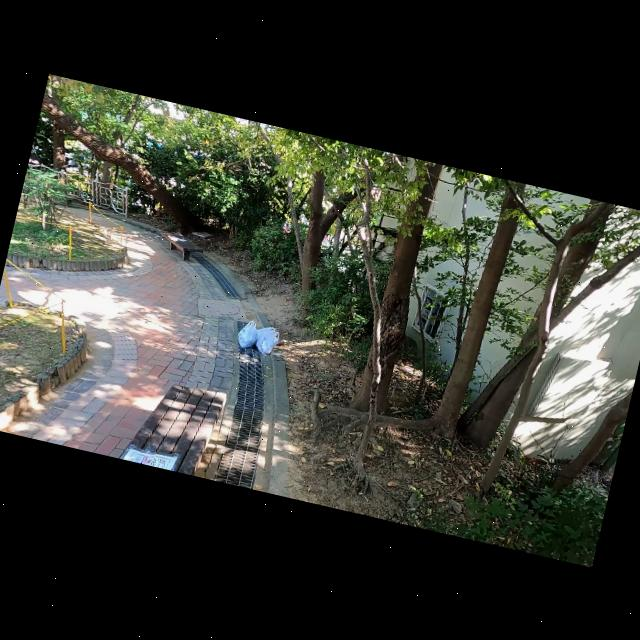trash: (235, 317, 259, 349), (256, 328, 280, 357), (254, 322, 275, 343)
